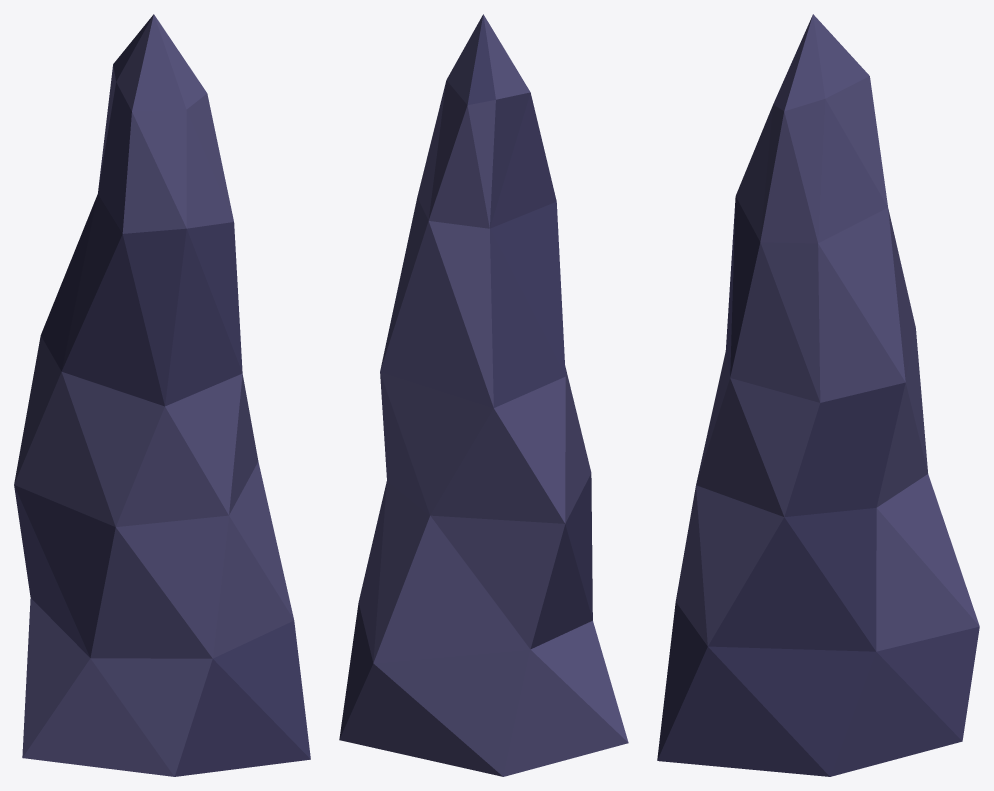
The model's file is rock_spire_deep.fbx.
3 views of the same model, side by side, from view 1: azimuth 30°, elevation 25°; view 2: azimuth 150°, elevation 25°; view 3: azimuth 270°, elevation 25° (orthographic).
Visible parts, largest first — view 1: rock_spire_deep; view 2: rock_spire_deep; view 3: rock_spire_deep.
Part boxes in pixels (x1,y1,x2,y2): rock_spire_deep: (14, 14, 310, 776); rock_spire_deep: (339, 14, 628, 776); rock_spire_deep: (657, 14, 979, 776).
Size of the model in its own units: 917 by 2381 by 980.
1 material, 1 textured.
